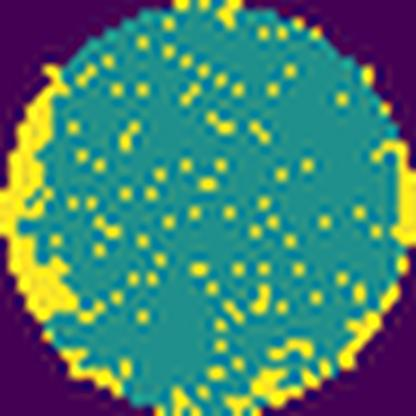Edge-Loc: (0, 70, 82, 321), (375, 136, 416, 250)
